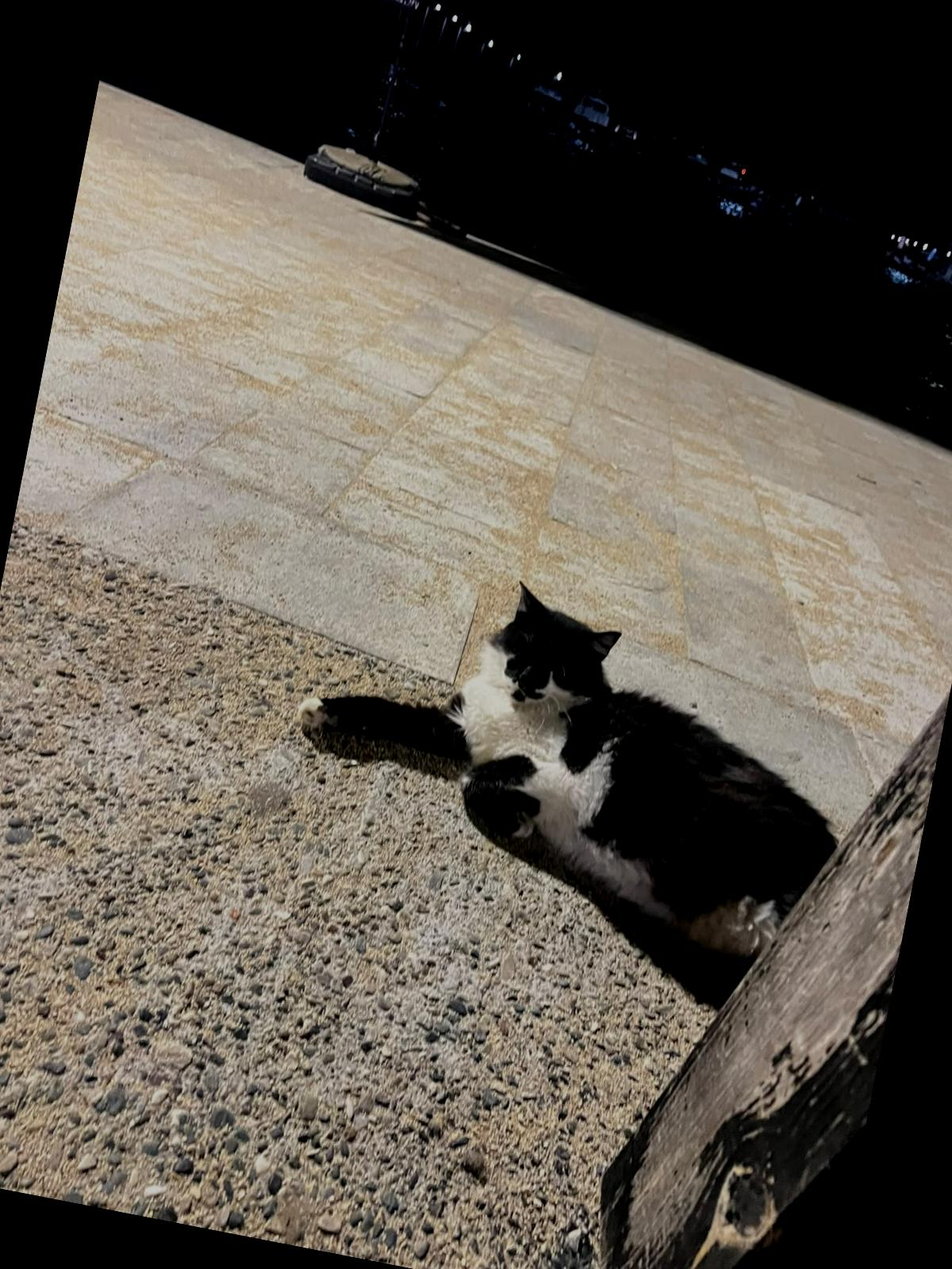macka: (271, 541, 875, 972)
